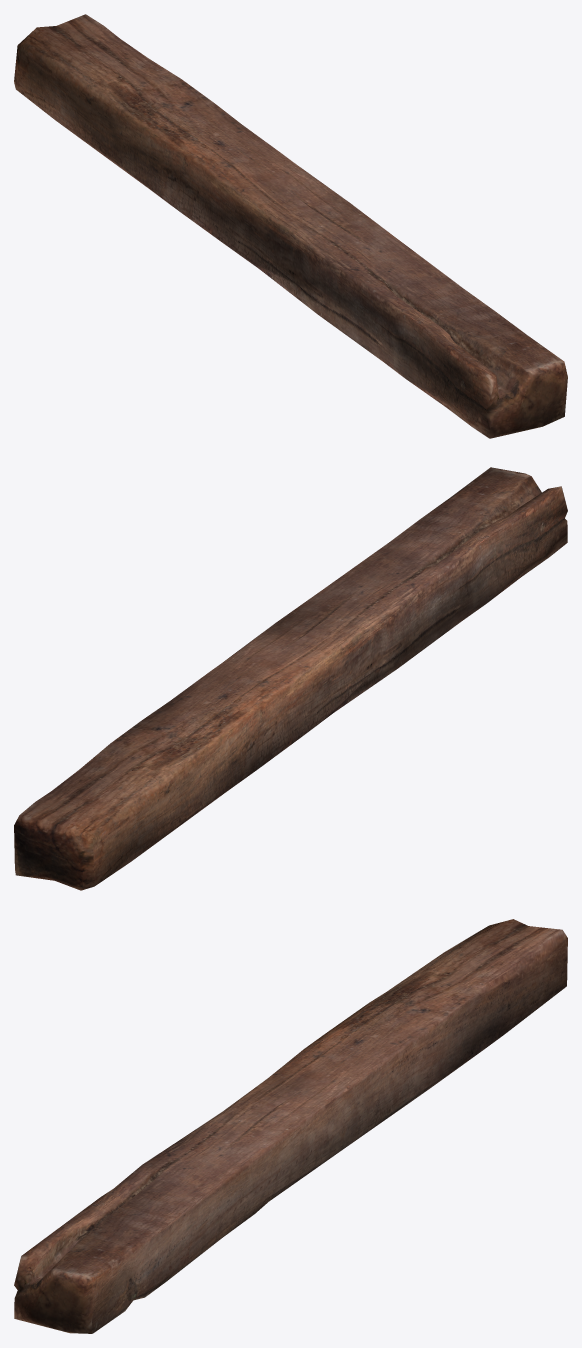
Rendered from Wooden_Plank_003.fbx.
3 renders of one model, top to bottom at view 1: azimuth 30°, elevation 25°; view 2: azimuth 150°, elevation 25°; view 3: azimuth 330°, elevation 25°, orthographic.
Visible parts, largest first — view 1: ricaS_LOD0_TIER2_003; view 2: ricaS_LOD0_TIER2_003; view 3: ricaS_LOD0_TIER2_003.
Part boxes in pixels (x1,y1,x2,y2): ricaS_LOD0_TIER2_003: [14, 14, 567, 438]; ricaS_LOD0_TIER2_003: [14, 467, 567, 890]; ricaS_LOD0_TIER2_003: [14, 919, 567, 1333].
Size of the model in its own units: 0.0636 by 0.0496 by 0.6696.
